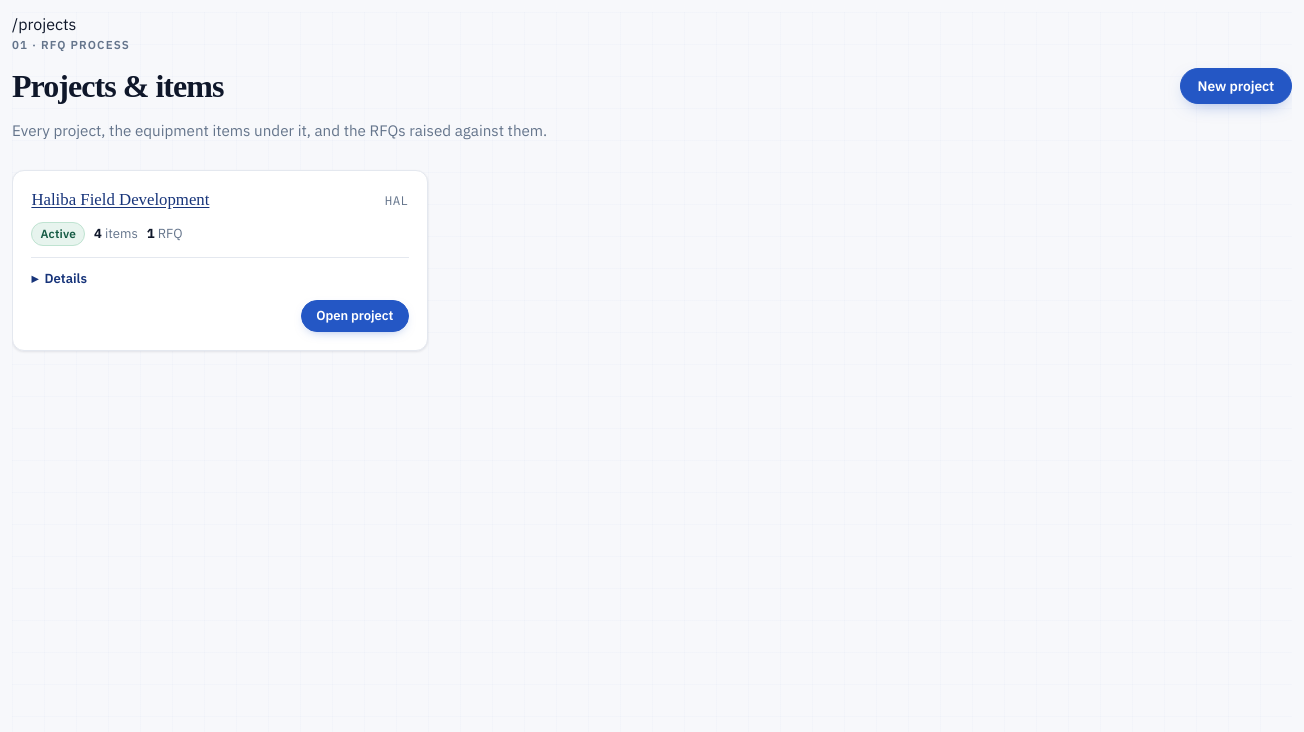
Test case: Projects › shows every detail field once the disclosure is opened
Click the heading "Details" at (66, 278), box [44,270,87,287]
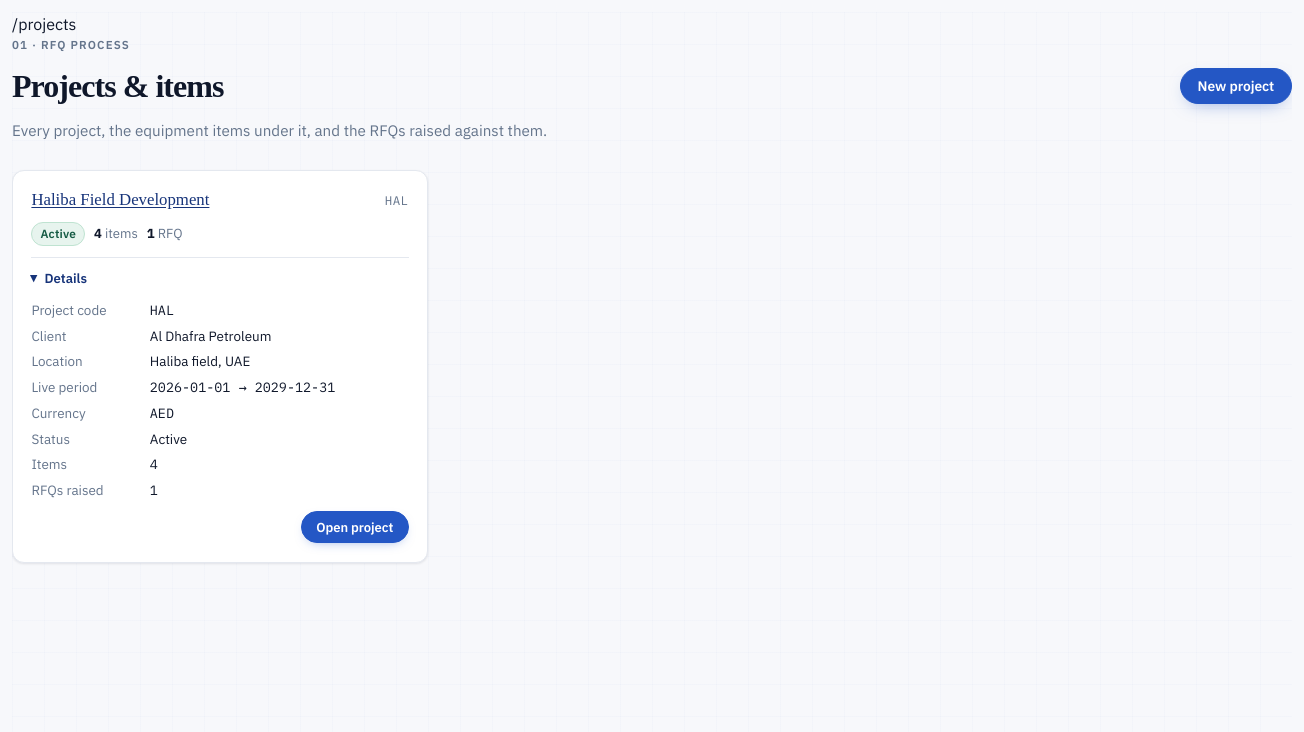
Expected: the text "Al Dhafra Petroleum" is shown, [150,327,271,345]
Expected: the text "Haliba field, UAE" is shown, [150,352,250,370]
Expected: the text "2026-01-01 → 2029-12-31" is shown, [150,378,335,396]
